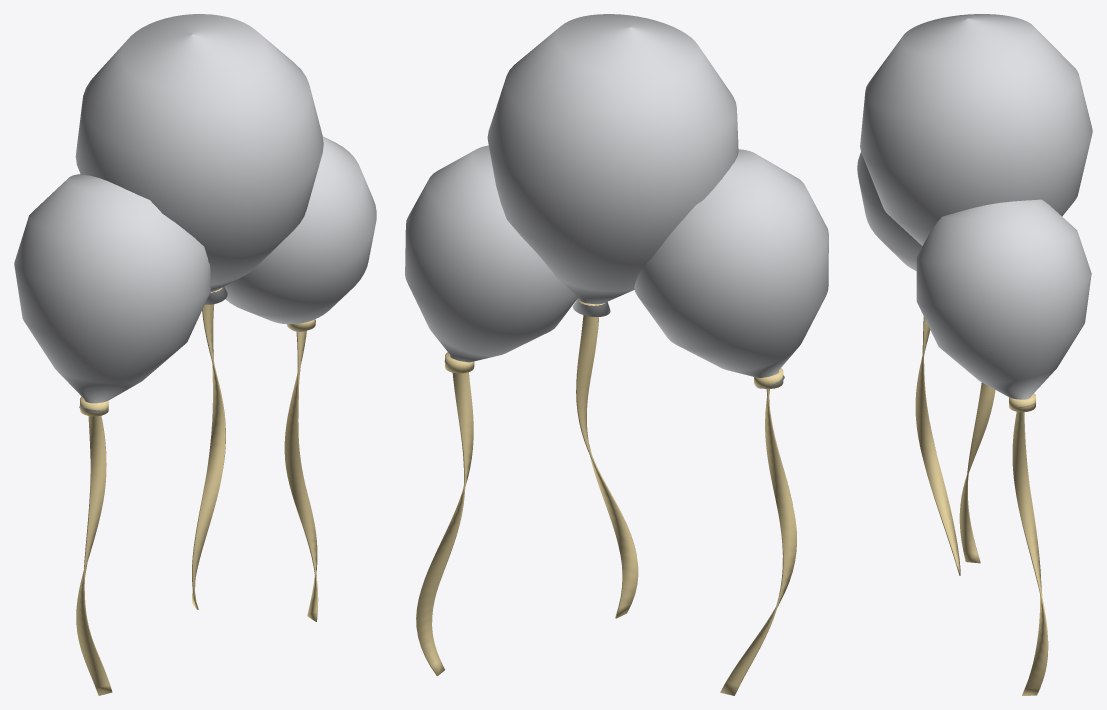
The model's file is globos.glb.
3 renders of one model, left to right at view 1: azimuth 30°, elevation 25°; view 2: azimuth 150°, elevation 25°; view 3: azimuth 270°, elevation 25°, orthographic. The views are drawn at different scales.
Parts seen in each view (by area): view 1: Globos_XVA_Editorial; view 2: Globos_XVA_Editorial; view 3: Globos_XVA_Editorial.
Part boxes in pixels (bbox=[...]): Globos_XVA_Editorial: bbox=[14, 14, 376, 695]; Globos_XVA_Editorial: bbox=[405, 14, 828, 695]; Globos_XVA_Editorial: bbox=[857, 14, 1092, 695].
Bounding box in the file's own units: 0.842 × 1.43 × 0.5048.
